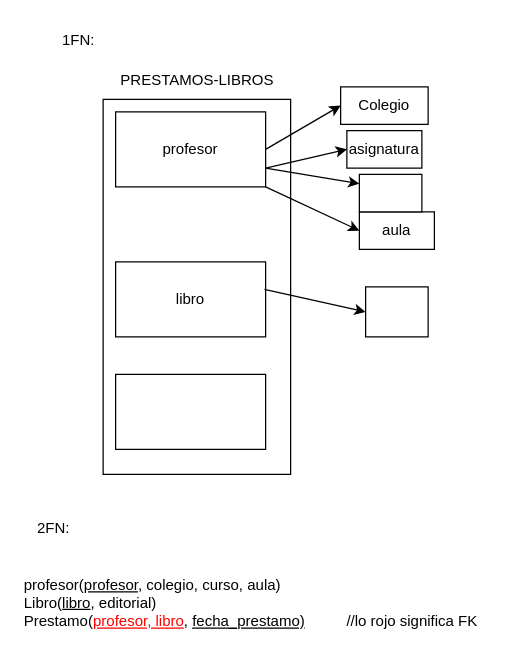
Some shapes in this 530 by 661 pixel diagram are drawn without their labels. The centre of each missing label's shape, as x and y in pixels:
"curso" goes at (x=390, y=192).
"editorial" goes at (x=396, y=311).
"fecha_Prestamo" goes at (x=190, y=411).
